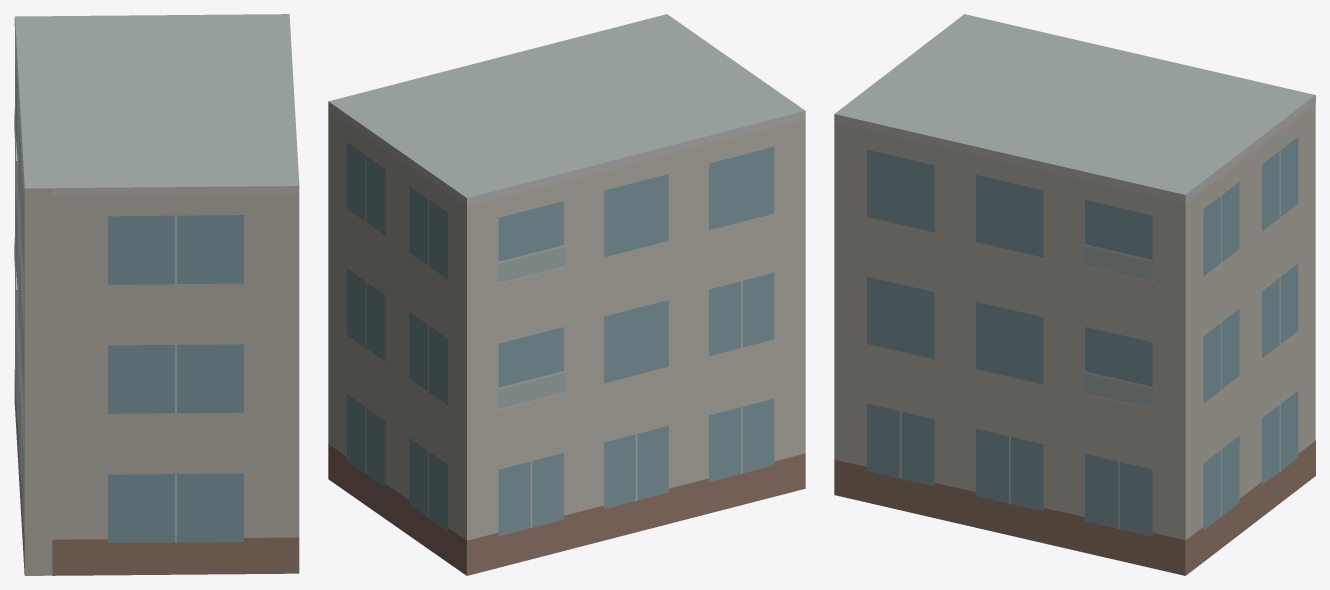
Rendered from survey-upis-32487305.glb.
The picture shows the model from 3 angles, left to right: view 1: azimuth 30°, elevation 25°; view 2: azimuth 150°, elevation 25°; view 3: azimuth 270°, elevation 25°; orthographic projection. The views are drawn at different scales.
Parts seen in each view (by area): view 1: survey-upis-32487305.tmp; view 2: survey-upis-32487305.tmp; view 3: survey-upis-32487305.tmp.
Boxes of the visible parts, x1,y1,x2,y2 form: survey-upis-32487305.tmp: (14, 14, 299, 575); survey-upis-32487305.tmp: (328, 14, 805, 575); survey-upis-32487305.tmp: (834, 14, 1315, 575).
Bounding box in the file's own units: 11.01 × 10.8 × 12.38.
